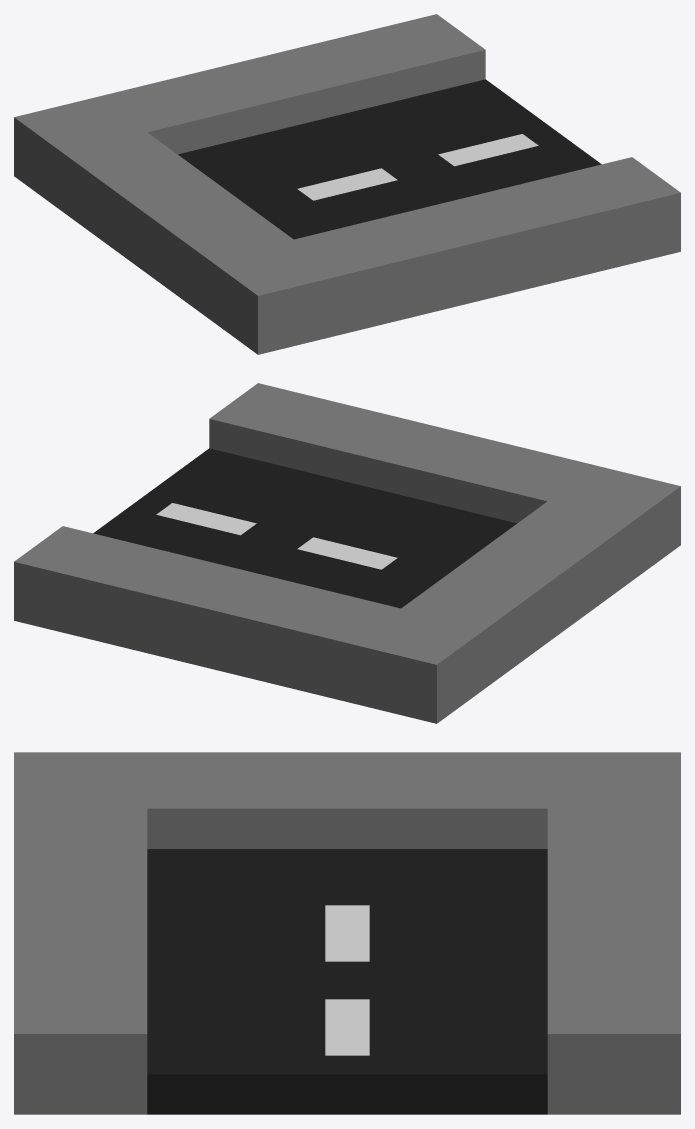
The model's file is DeadEnd.obj.
3 renders of one model, top to bottom at view 1: azimuth 30°, elevation 25°; view 2: azimuth 150°, elevation 25°; view 3: azimuth 270°, elevation 25°, orthographic. The views are drawn at different scales.
Parts seen in each view (by area): view 1: DeadEnd; view 2: DeadEnd; view 3: DeadEnd.
Boxes of the visible parts, box(x1,y1,x2,y2) form: DeadEnd: box(14, 14, 680, 354); DeadEnd: box(14, 383, 680, 723); DeadEnd: box(14, 752, 680, 1114).
Size of the model in its own units: 1.5 by 0.2 by 1.5.
Materials: 1 (1 with a texture image).
